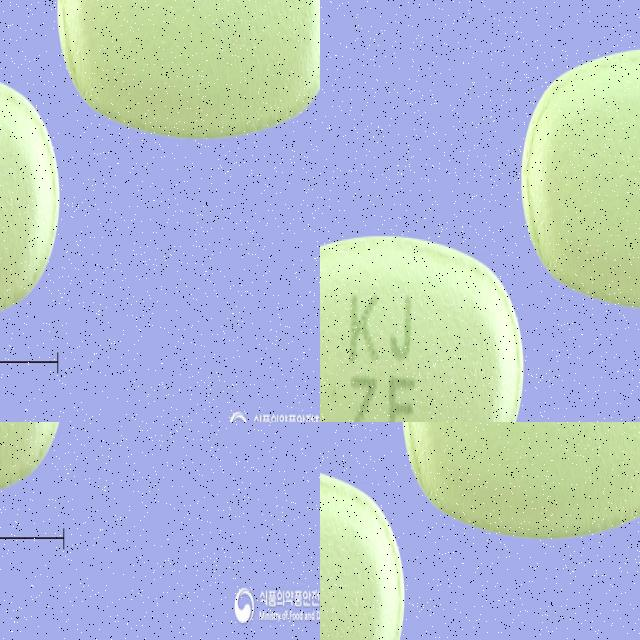Duricef Cap: (0, 422, 226, 619)
Levofexin - 500mg: (320, 218, 520, 422), (518, 40, 640, 317)
Moveloxin: (51, 0, 320, 130), (0, 57, 66, 324)
Zeffix Tab: (402, 422, 640, 539), (320, 462, 405, 640)
